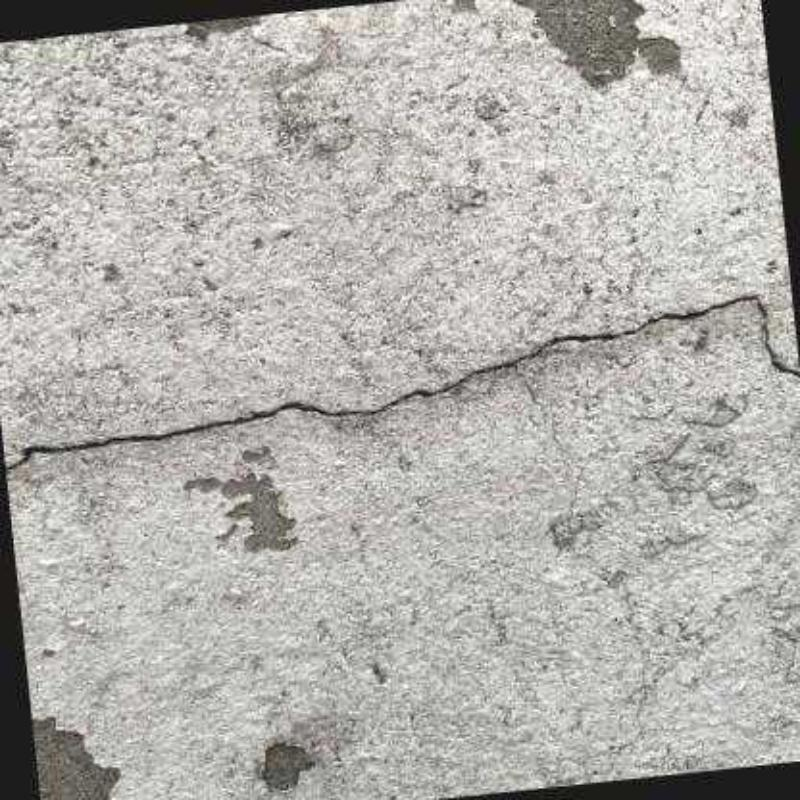crack: (5, 295, 799, 471)
